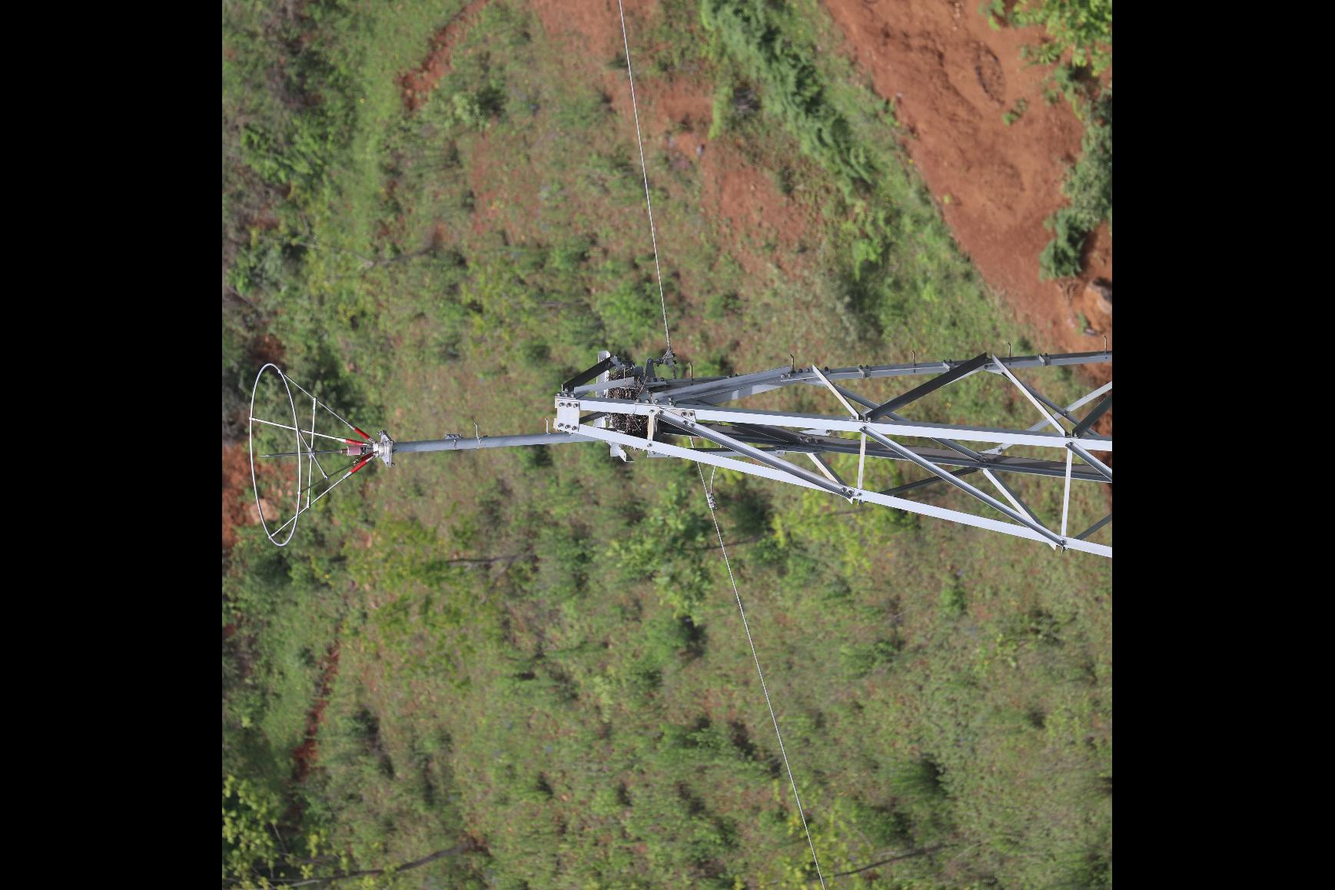nest: (603, 364, 648, 438)
